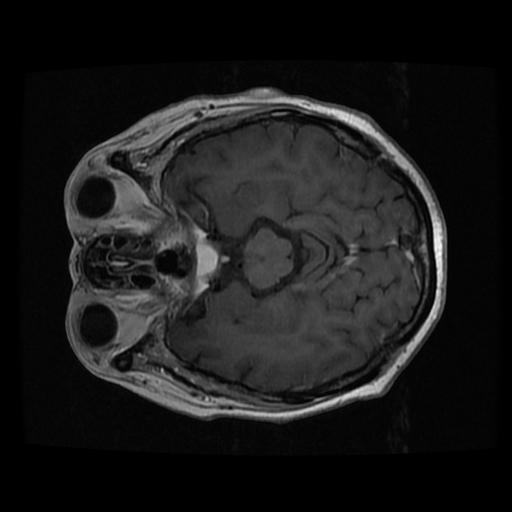meningioma: (194, 237, 218, 277)
